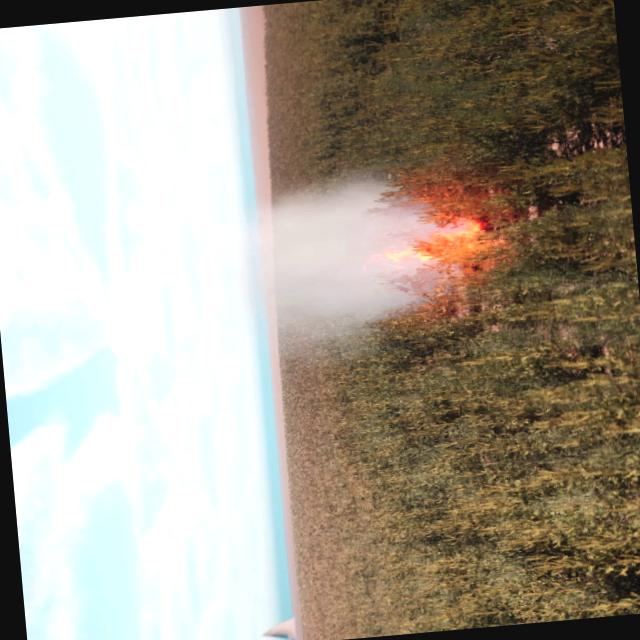fire: (362, 215, 486, 269)
smoke: (172, 162, 472, 362)
